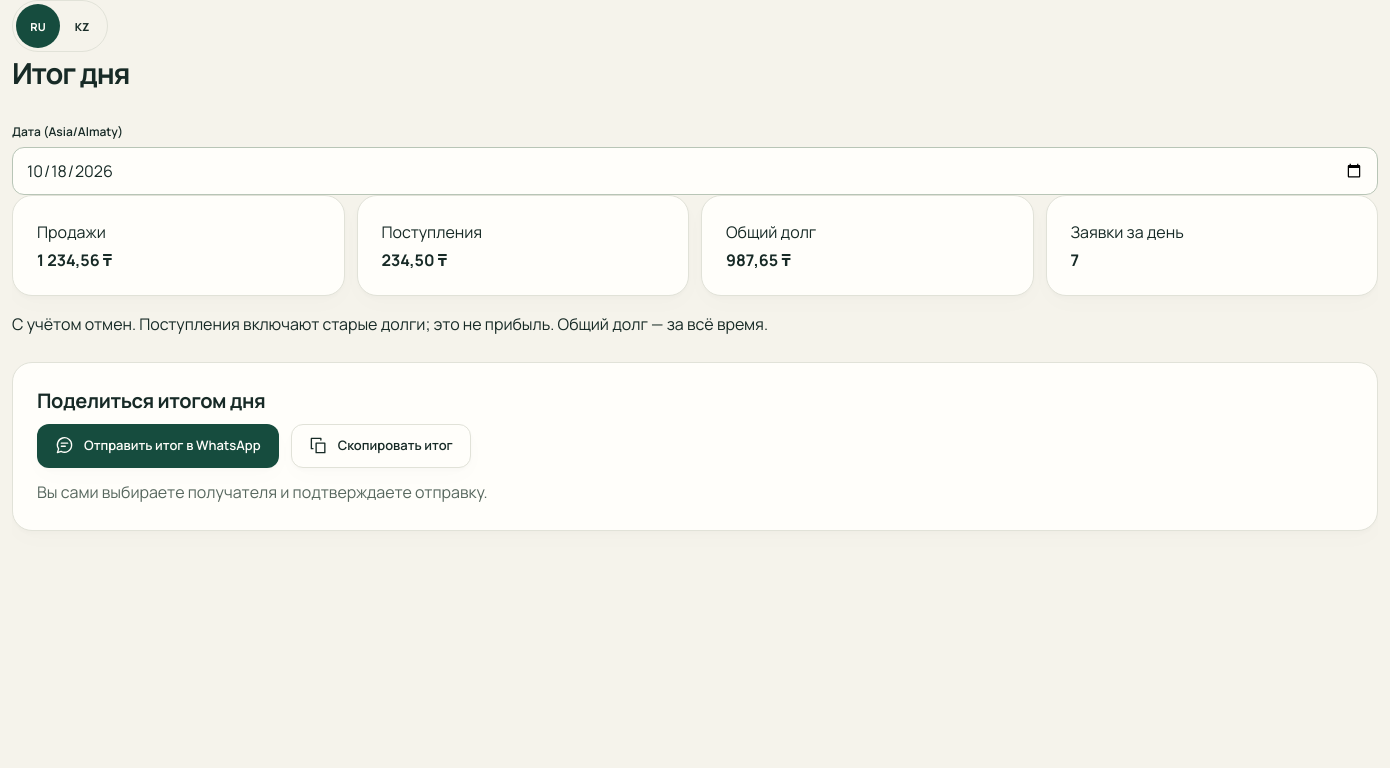
summary sharing states and isolation › reports Clipboard rejection honestly and retains amounts
This screenshot has width=1390, height=768.
Step 1. Click the button "Скопировать итог" → (381, 446), box [291,424,471,468]
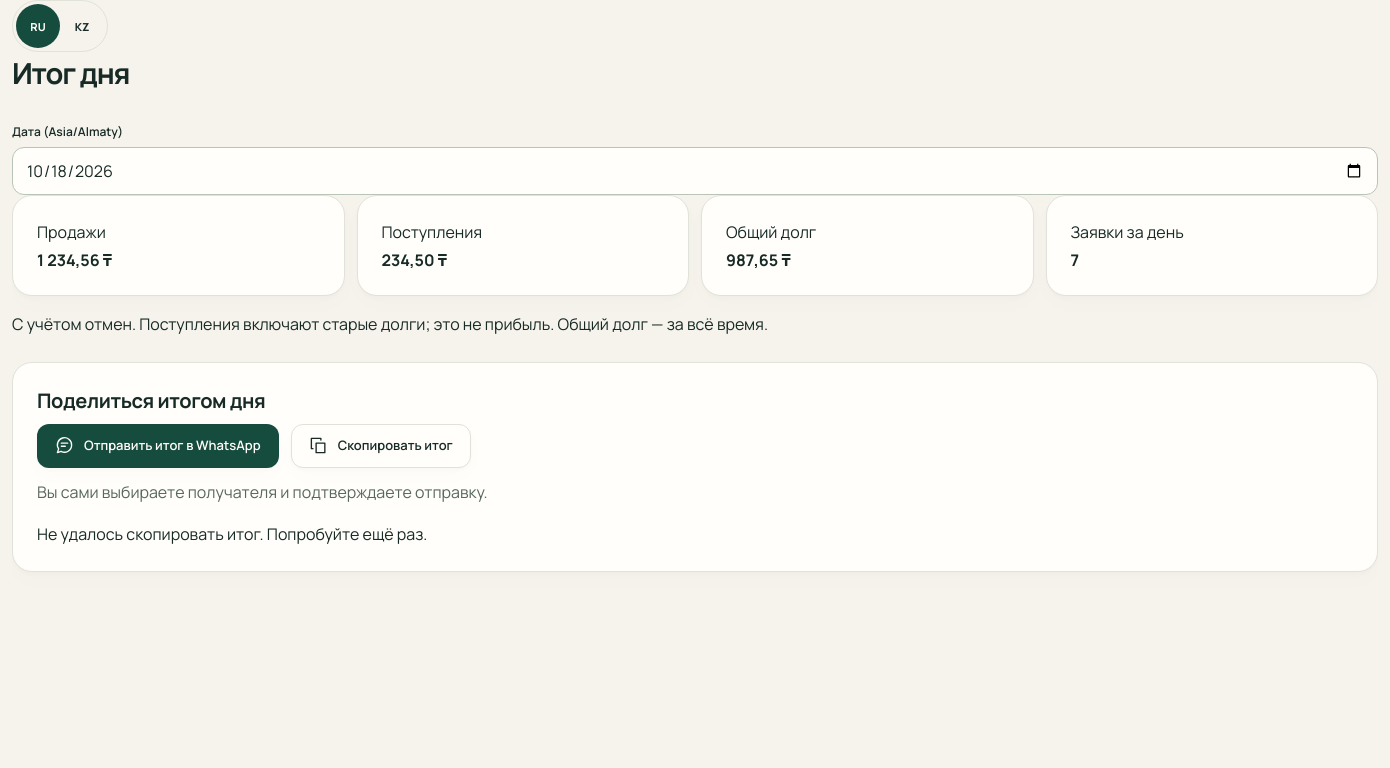
Expected: the text "1 234,56 ₸" is shown, [37,249,112,271]
Expected: the message shows "Не удалось скопировать", [37,523,427,545]
